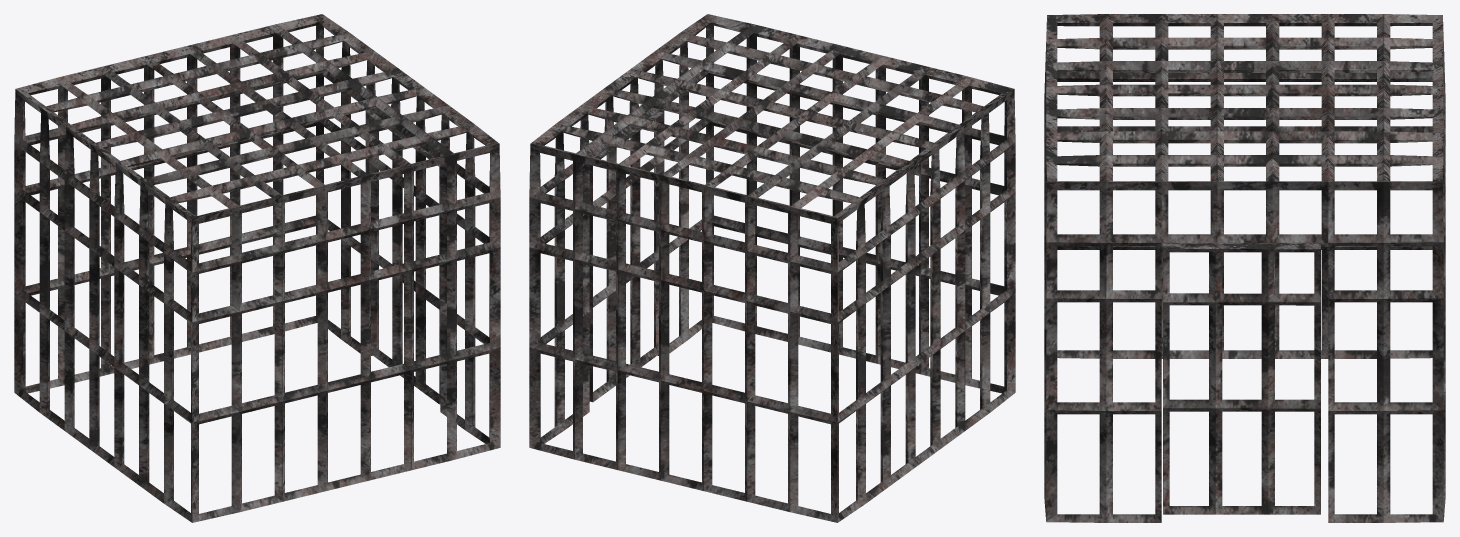
File: SM_Cage_Close.fbx
3 views of the same model, side by side, from view 1: azimuth 30°, elevation 25°; view 2: azimuth 150°, elevation 25°; view 3: azimuth 270°, elevation 25° (orthographic). The views are drawn at different scales.
Visible parts, largest first — view 1: SM_Cage_Close; view 2: SM_Cage_Close; view 3: SM_Cage_Close.
Part boxes in pixels (x1=…): SM_Cage_Close: x1=14, y1=14, x2=500, y2=522; SM_Cage_Close: x1=529, y1=14, x2=1015, y2=522; SM_Cage_Close: x1=1044, y1=14, x2=1445, y2=522.
Size of the model in its own units: 470 by 441 by 470.
